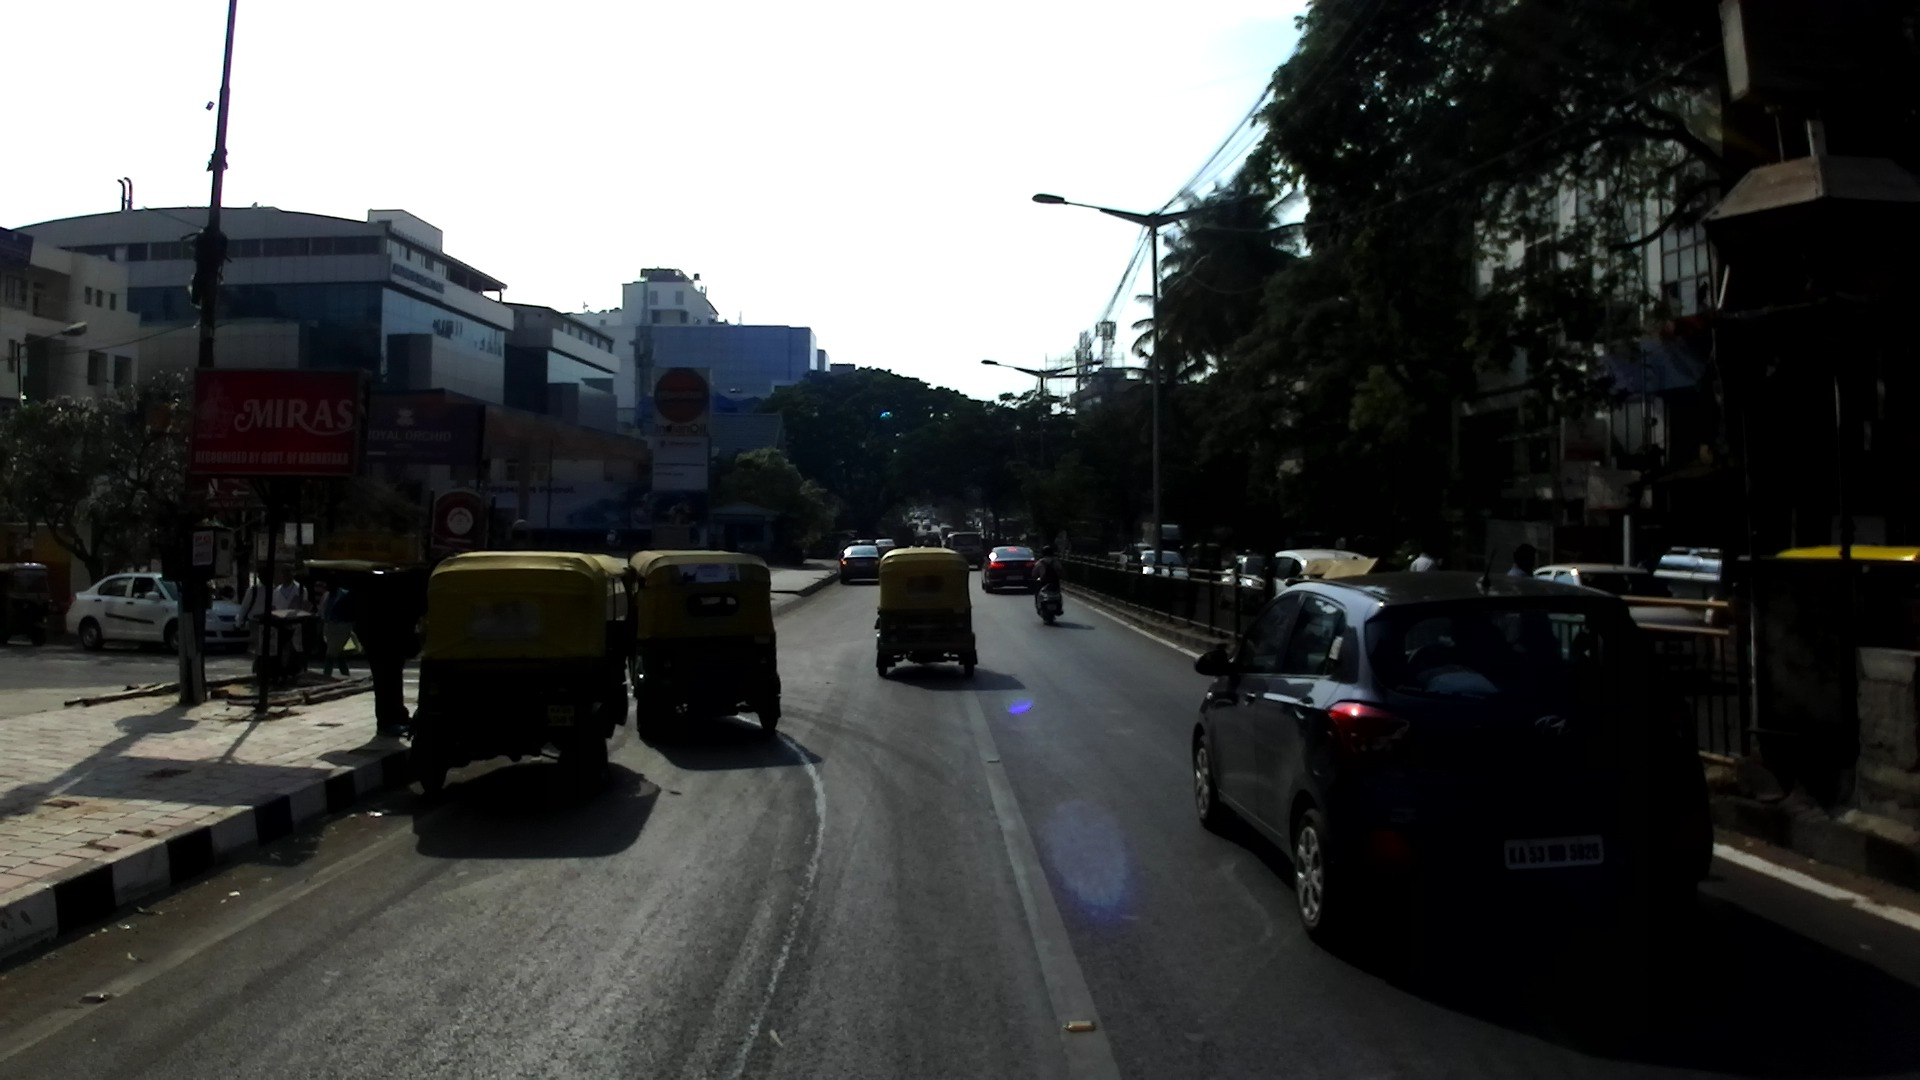autorickshaw: (408, 551, 630, 797), (621, 549, 783, 739), (875, 548, 979, 682), (295, 558, 423, 662), (1, 563, 54, 648), (1774, 543, 1920, 573)
car: (1192, 550, 1715, 955), (1532, 562, 1711, 694), (64, 570, 245, 654), (1263, 550, 1378, 616), (1220, 552, 1269, 616), (981, 545, 1039, 595), (837, 545, 883, 585), (1137, 550, 1189, 583), (943, 531, 986, 571), (1118, 543, 1155, 570), (874, 539, 896, 564), (849, 539, 873, 549), (930, 516, 941, 524)
motorcycle: (1034, 574, 1065, 626)
person: (272, 563, 312, 684), (236, 563, 274, 678), (318, 573, 354, 680), (1506, 542, 1540, 589), (1411, 547, 1437, 577)
rider: (1032, 544, 1064, 613), (1404, 554, 1420, 576), (1179, 542, 1193, 560)
truck: (1141, 522, 1181, 557)
vehicle fallback: (1654, 543, 1773, 685), (1189, 542, 1223, 582), (888, 524, 918, 549), (912, 532, 945, 552), (939, 526, 955, 542), (907, 519, 921, 534), (921, 520, 933, 531), (921, 510, 932, 518), (909, 513, 917, 520)
